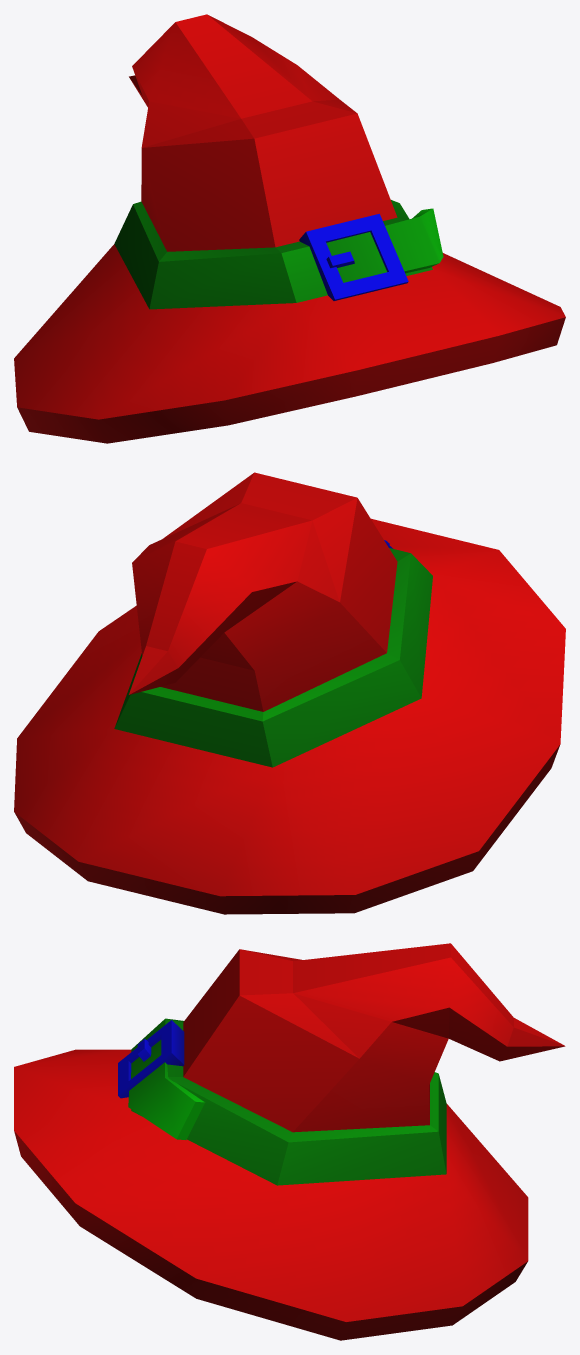
The model's file is MageHat_A.fbx.
3 views of the same model, one above another, from view 1: azimuth 30°, elevation 25°; view 2: azimuth 150°, elevation 25°; view 3: azimuth 270°, elevation 25° (orthographic). The views are drawn at different scales.
Parts seen in each view (by area): view 1: MageHat_A; view 2: MageHat_A; view 3: MageHat_A.
Boxes of the visible parts, left/top/right/bottom form: MageHat_A: left=14, top=14, right=565, bottom=443; MageHat_A: left=14, top=472, right=565, bottom=914; MageHat_A: left=14, top=943, right=565, bottom=1340.
Size of the model in its own units: 53.6 by 36.3 by 60.26.
